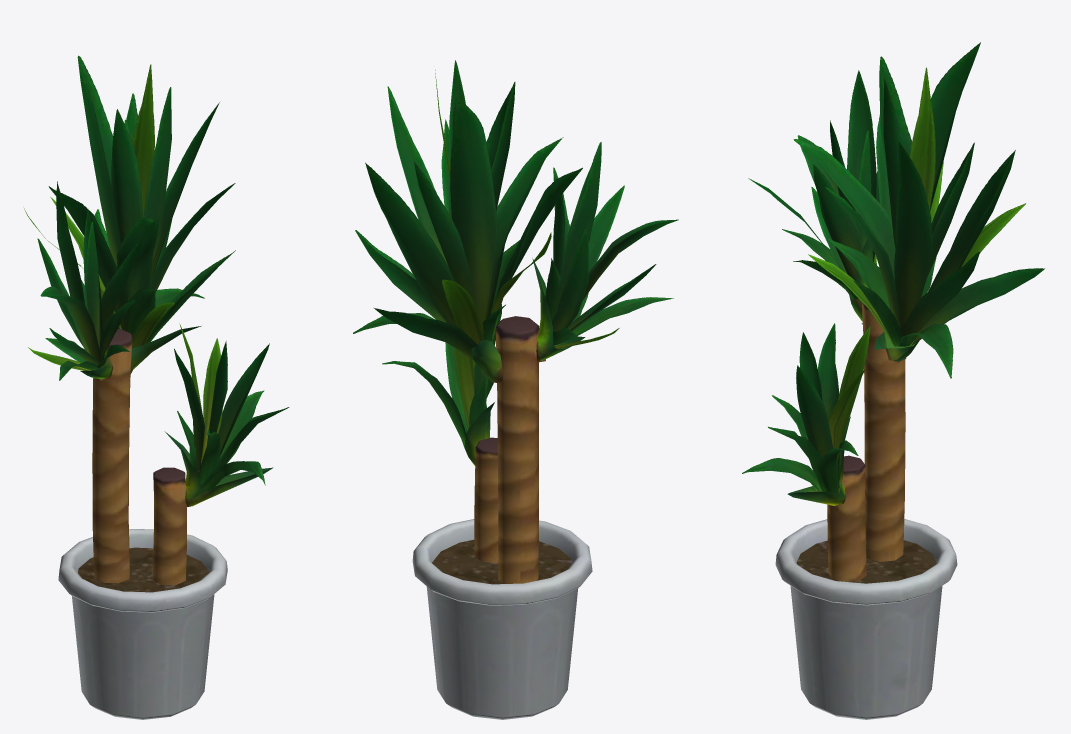
3 views of the same model, side by side, from view 1: azimuth 30°, elevation 25°; view 2: azimuth 150°, elevation 25°; view 3: azimuth 270°, elevation 25° (orthographic). The views are drawn at different scales.
Size of the model in its own units: 9.45 by 21.28 by 9.13.
Materials: 2 (2 with a texture image).
